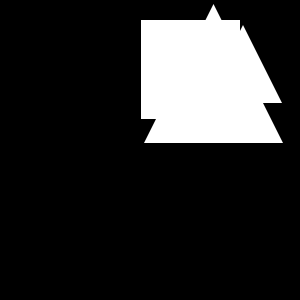circle: (141, 20, 240, 119)
triangle: (144, 4, 283, 143), (204, 25, 282, 103)
